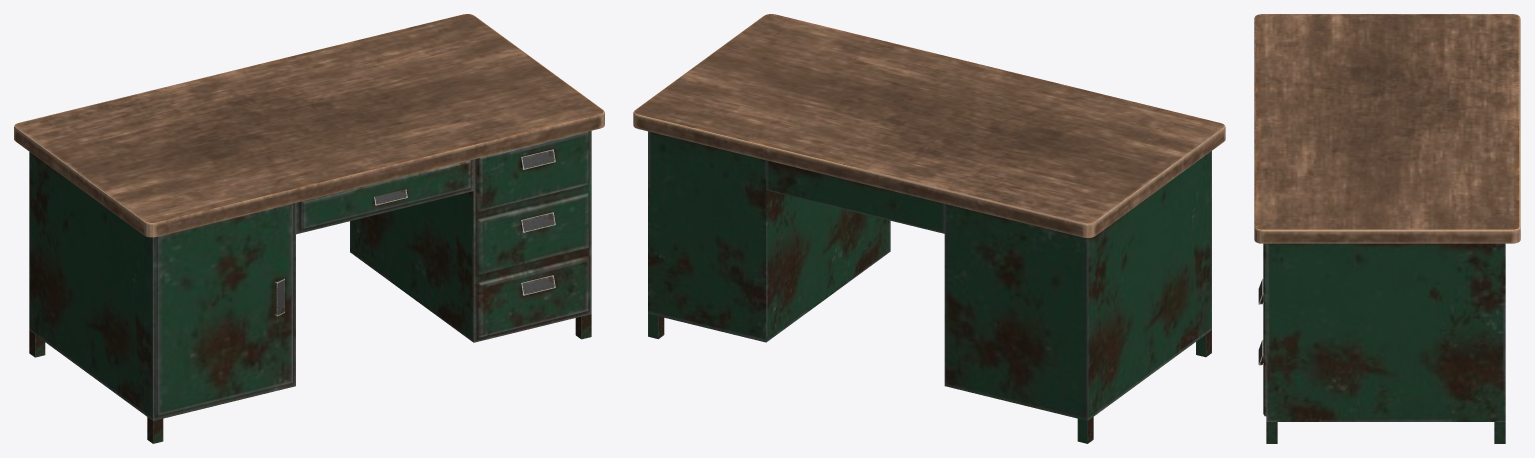
The model's file is metal_deskC.glb.
3 renders of one model, left to right at view 1: azimuth 30°, elevation 25°; view 2: azimuth 150°, elevation 25°; view 3: azimuth 270°, elevation 25°, orthographic. The views are drawn at different scales.
Parts seen in each view (by area): view 1: 0a64aee0-9d48-4d8f-a245-affe6d9d1bc6; view 2: 0a64aee0-9d48-4d8f-a245-affe6d9d1bc6; view 3: 0a64aee0-9d48-4d8f-a245-affe6d9d1bc6.
Part boxes in pixels (x1,y1,x2,y2): 0a64aee0-9d48-4d8f-a245-affe6d9d1bc6: (14,14,604,443); 0a64aee0-9d48-4d8f-a245-affe6d9d1bc6: (633,14,1225,443); 0a64aee0-9d48-4d8f-a245-affe6d9d1bc6: (1254,14,1520,443).
Size of the model in its own units: 0.5 by 0.235 by 0.2594.
Materials: 1 (1 with a texture image).
